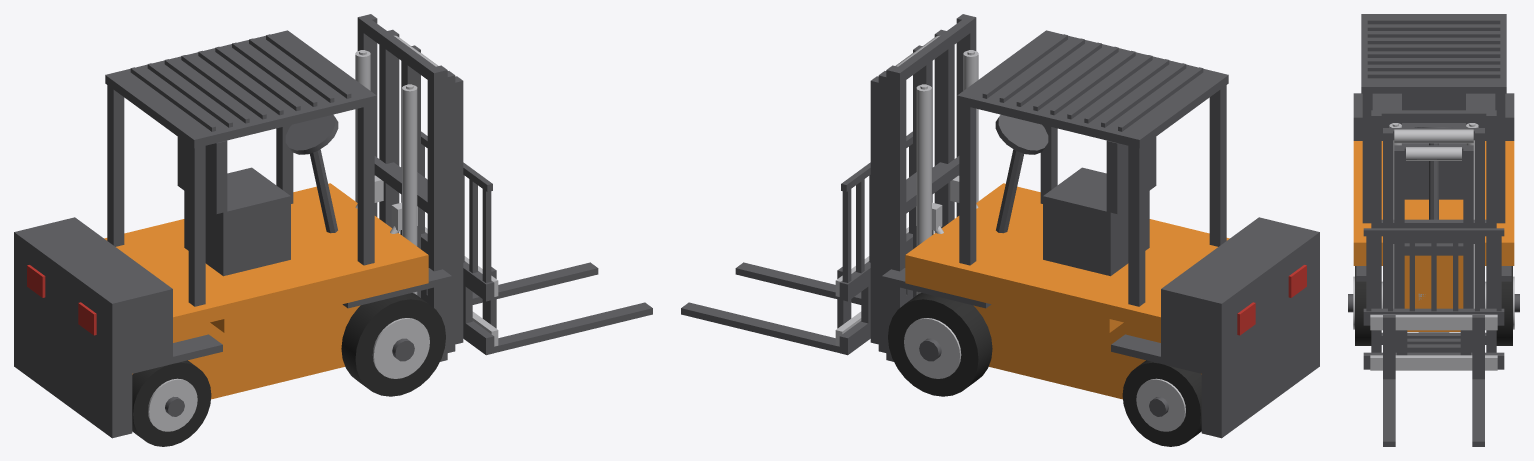
File: SM_Forklift3t.fbx
The picture shows the model from 3 angles, left to right: view 1: azimuth 30°, elevation 25°; view 2: azimuth 150°, elevation 25°; view 3: azimuth 270°, elevation 25°; orthographic projection. The views are drawn at different scales.
Visible parts, largest first — view 1: FL_Body, FL_MastOuter, FL_Wheel_FR, FL_MastMiddle, FL_Wheel_RR, FL_Carriage, FL_MastInner, FL_Fork_R, FL_Fork_L; view 2: FL_Body, FL_MastOuter, FL_Wheel_FL, FL_MastMiddle, FL_Wheel_RL, FL_Carriage, FL_MastInner, FL_Fork_L, FL_Fork_R; view 3: FL_Body, FL_MastOuter, FL_Carriage, FL_MastInner, FL_MastMiddle, FL_SideShift, FL_Fork_L, FL_Fork_R, FL_Wheel_FL, FL_Wheel_FR.
Part boxes in pixels (x1,y1,x2,y2): FL_Body: (14, 30, 451, 438); FL_MastOuter: (355, 14, 447, 361); FL_Wheel_FR: (341, 293, 445, 396); FL_MastMiddle: (359, 29, 455, 352); FL_Wheel_RR: (132, 360, 211, 446); FL_Carriage: (400, 131, 494, 355); FL_MastInner: (401, 45, 463, 344); FL_Fork_R: (482, 267, 652, 352); FL_Fork_L: (472, 262, 598, 304); FL_Body: (882, 30, 1319, 438); FL_MastOuter: (886, 14, 978, 361); FL_Wheel_FL: (888, 293, 992, 396); FL_MastMiddle: (878, 29, 974, 352); FL_Wheel_RL: (1122, 360, 1201, 446); FL_Carriage: (839, 131, 933, 355); FL_MastInner: (870, 45, 932, 344); FL_Fork_L: (681, 267, 851, 352); FL_Fork_R: (735, 262, 861, 304); FL_Body: (1353, 14, 1514, 332); FL_MastOuter: (1371, 110, 1496, 352); FL_Carriage: (1363, 228, 1504, 369); FL_MastInner: (1394, 145, 1473, 352); FL_MastMiddle: (1383, 123, 1484, 344); FL_SideShift: (1370, 314, 1497, 370); FL_Fork_L: (1472, 315, 1484, 446); FL_Fork_R: (1383, 315, 1395, 446); FL_Wheel_FL: (1496, 266, 1519, 345); FL_Wheel_FR: (1348, 266, 1371, 345).
Bounding box in the file's own units: 415 × 217 × 135.
